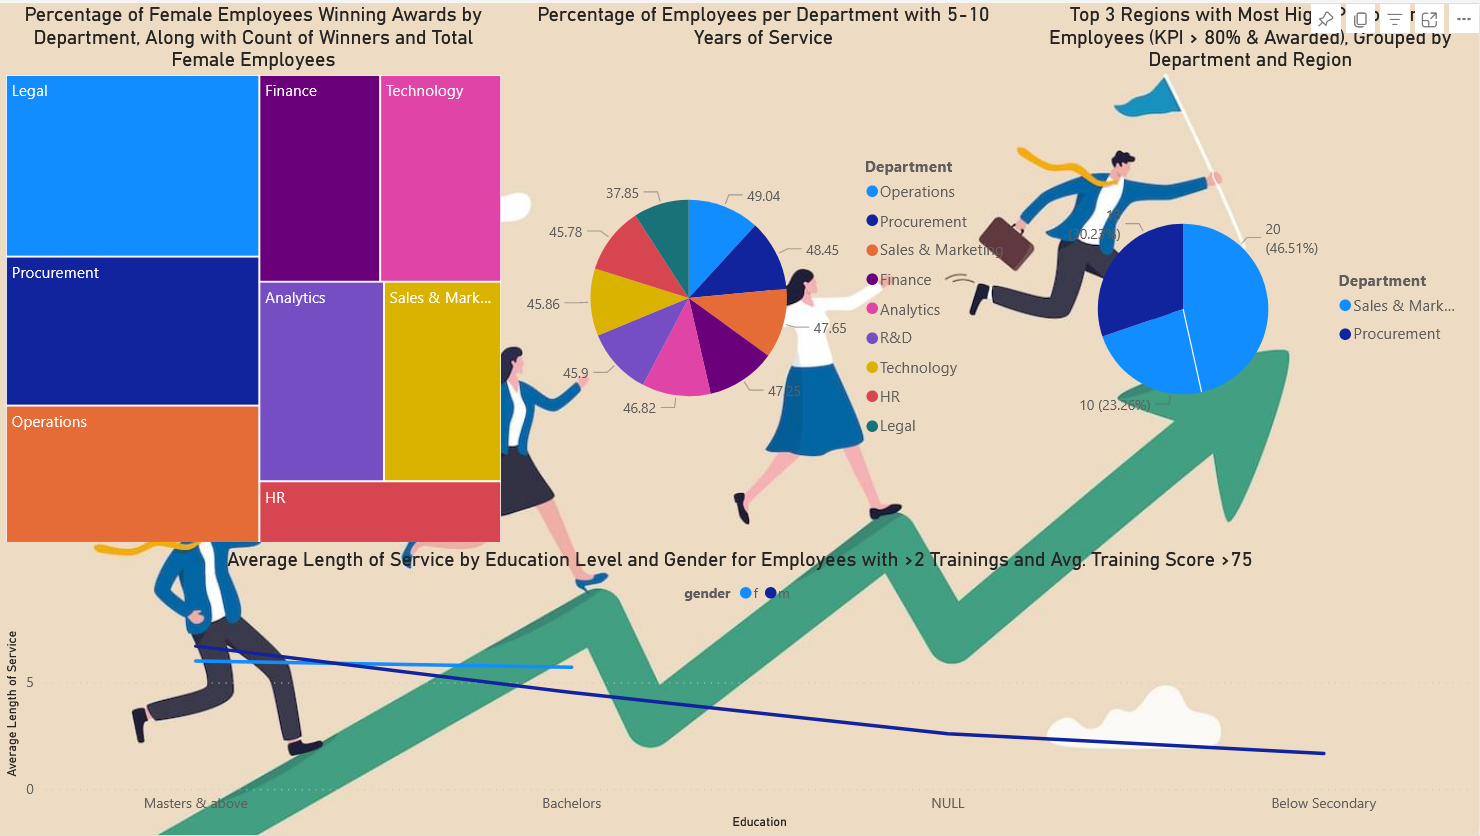

The dashboard page shown, as its layout file describes it:
{"tool":"powerbi","page":{"name":"Page 3","canvas":[1280,720],"ordinal":2},"visuals":[{"type":"treemap","title":"Percentage of Female Employees Winning Awards by Department, Along with Count of Winners and Total Female Employees","fields":{"Group":["9.department"],"Values":["Sum(9.percentage_female_awarded)"]},"box":[0,0,438.5,471.9],"z":0},{"type":"pieChart","title":"Percentage of Employees per Department with 5-10 Years of Service","fields":{"Category":["10.department"],"Y":["Sum(10.percentage)"]},"box":[438.5,0,445.4,471.9],"z":1},{"type":"pieChart","title":"Top 3 Regions with Most High-Performing Employees (KPI > 80% & Awarded), Grouped by Department and Region","fields":{"Category":["11.department"],"Y":["Sum(11.num_employees)"],"Series":["11.region"]},"box":[883.9,0,396.7,471.9],"z":2},{"type":"lineChart","title":"Average Length of Service by Education Level and Gender for Employees with >2 Trainings and Avg. Training Score >75","fields":{"Category":["12.education"],"Y":["Sum(12.average_length_of_service)"],"Series":["12.gender"]},"box":[0,471.9,1280.6,247.8],"z":3}]}

Visuals, with their boxes in screenshot pixels (x1, y1, x2, y2), scaled from the page's 1280x720 canvas onto the 1480x836 screenshot:
"Percentage of Female Employees Winning Awards by Department, Along with Count of Winners and Total Female Employees" treemap: [0, 0, 507, 548]
"Percentage of Employees per Department with 5-10 Years of Service" pieChart: [507, 0, 1022, 548]
"Top 3 Regions with Most High-Performing Employees (KPI > 80% & Awarded), Grouped by Department and Region" pieChart: [1022, 0, 1479, 548]
"Average Length of Service by Education Level and Gender for Employees with >2 Trainings and Avg. Training Score >75" lineChart: [0, 548, 1479, 835]
